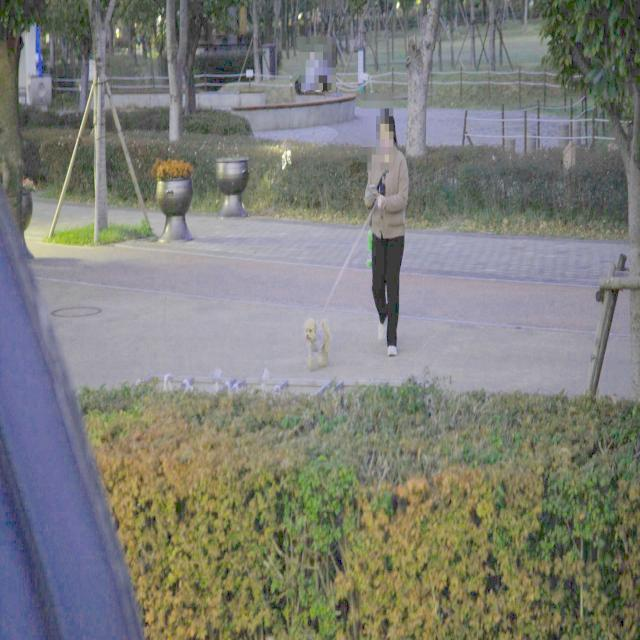Leashed_Dog: (304, 193, 387, 370)
